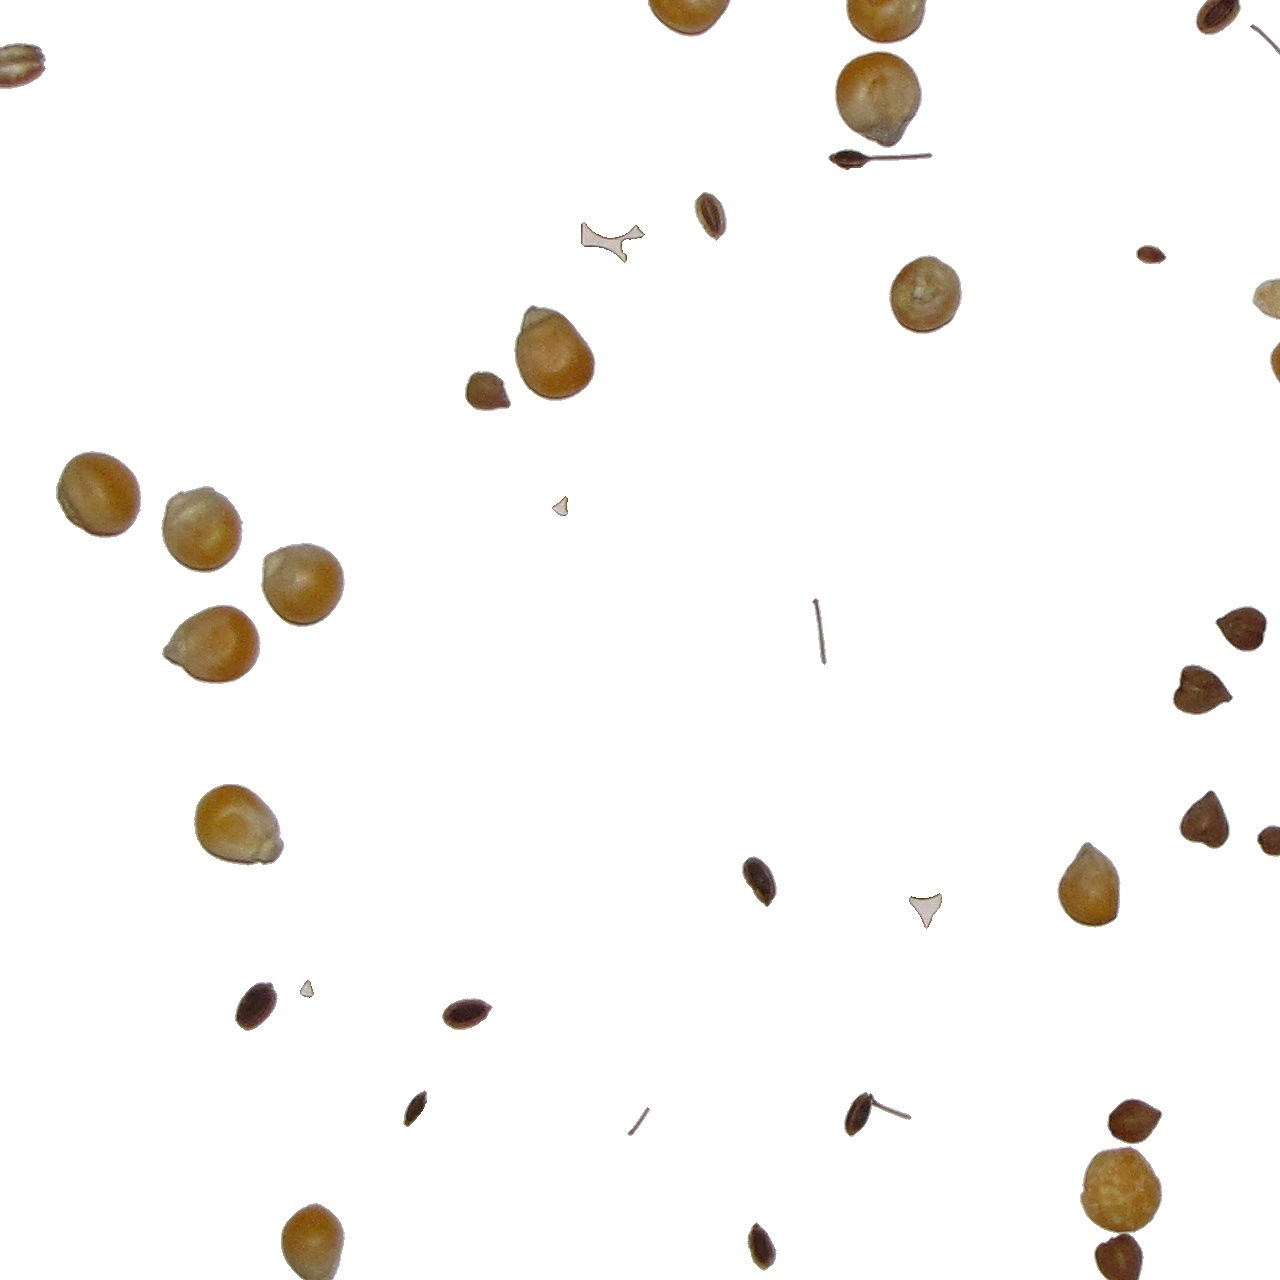buckwheat: (1171, 663, 1234, 716), (1178, 789, 1231, 850), (1107, 1097, 1164, 1145), (1214, 605, 1269, 653), (1092, 1231, 1145, 1280), (1, 39, 49, 91), (234, 981, 279, 1032), (741, 855, 778, 908), (441, 998, 493, 1032), (745, 1224, 778, 1275), (406, 1091, 433, 1141), (908, 892, 942, 930), (811, 597, 828, 666), (626, 1107, 651, 1137), (551, 495, 568, 517), (299, 979, 315, 999)
dill: (843, 1091, 913, 1138), (574, 222, 640, 264), (693, 191, 728, 241), (1135, 244, 1167, 265)
mais: (835, 50, 922, 149), (161, 604, 263, 685), (513, 304, 597, 402), (193, 783, 286, 867), (55, 450, 142, 539), (1080, 1145, 1164, 1235), (159, 485, 244, 574), (260, 542, 346, 628), (888, 254, 964, 335), (1056, 840, 1122, 930), (280, 1201, 346, 1280), (843, 2, 927, 43), (649, 1, 731, 39), (1269, 324, 1280, 409)
other: (828, 148, 934, 171), (464, 370, 512, 411), (1251, 277, 1280, 324), (1251, 824, 1280, 862), (1250, 23, 1280, 57)
